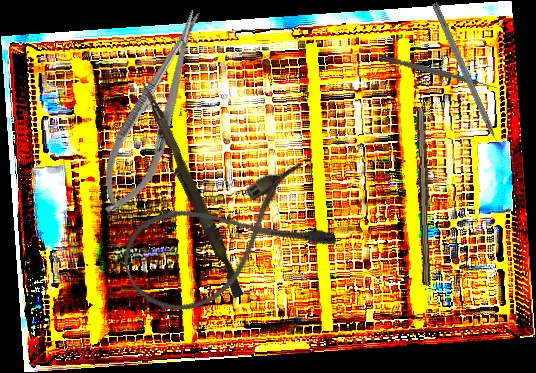Cannula: (111, 157, 341, 326)
Hook Surgical: (429, 2, 506, 158), (378, 53, 498, 92)
Needle Holder: (87, 2, 221, 223)
Pusher: (132, 80, 250, 299)
Scalpel Handle: (413, 107, 436, 286)
